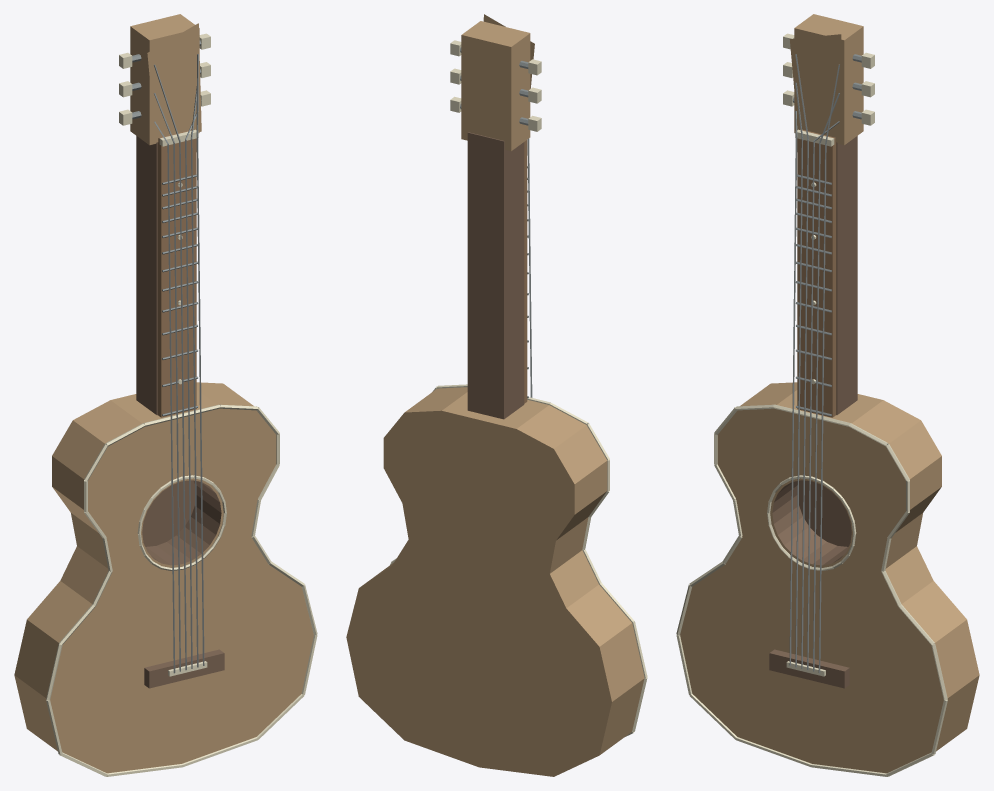
Rendered from Guitar_Acoustic.fbx.
The picture shows the model from 3 angles, left to right: view 1: azimuth 30°, elevation 25°; view 2: azimuth 150°, elevation 25°; view 3: azimuth 330°, elevation 25°; orthographic projection.
Parts seen in each view (by area): view 1: Guitar_Acoustic_Geometry; view 2: Guitar_Acoustic_Geometry; view 3: Guitar_Acoustic_Geometry.
Boxes of the visible parts, x1,y1,x2,y2 form: Guitar_Acoustic_Geometry: (14,14,317,776); Guitar_Acoustic_Geometry: (346,14,647,776); Guitar_Acoustic_Geometry: (676,14,979,776).
Bounding box in the file's own units: 64.83 × 168 × 17.19.
